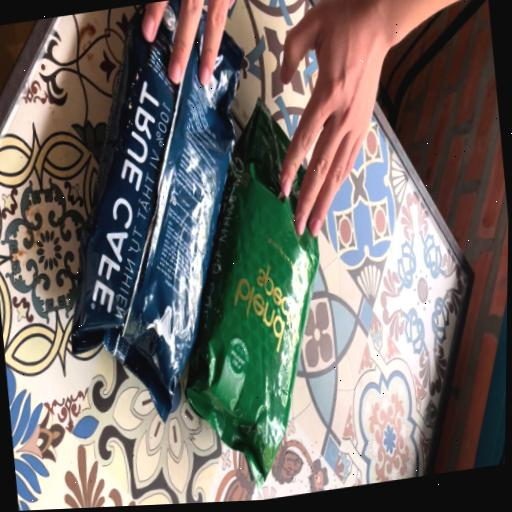cafe_hat: (70, 0, 241, 421)
cafe_xay: (185, 105, 318, 487)
